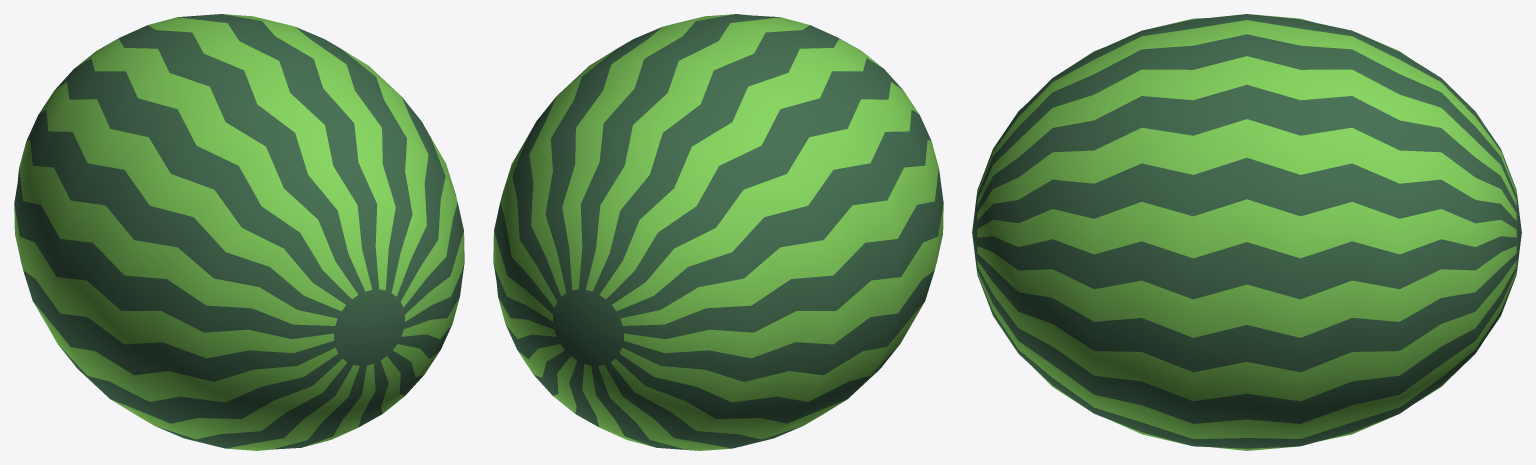
File: Watermelon.fbx
3 views of the same model, side by side, from view 1: azimuth 30°, elevation 25°; view 2: azimuth 150°, elevation 25°; view 3: azimuth 270°, elevation 25° (orthographic). The views are drawn at different scales.
Parts seen in each view (by area): view 1: Sphere; view 2: Sphere; view 3: Sphere.
Part boxes in pixels (left/top/right/bottom): Sphere: left=14, top=14, right=464, bottom=450; Sphere: left=493, top=14, right=943, bottom=450; Sphere: left=972, top=14, right=1521, bottom=450.
Size of the model in its own units: 272 by 272 by 341.
